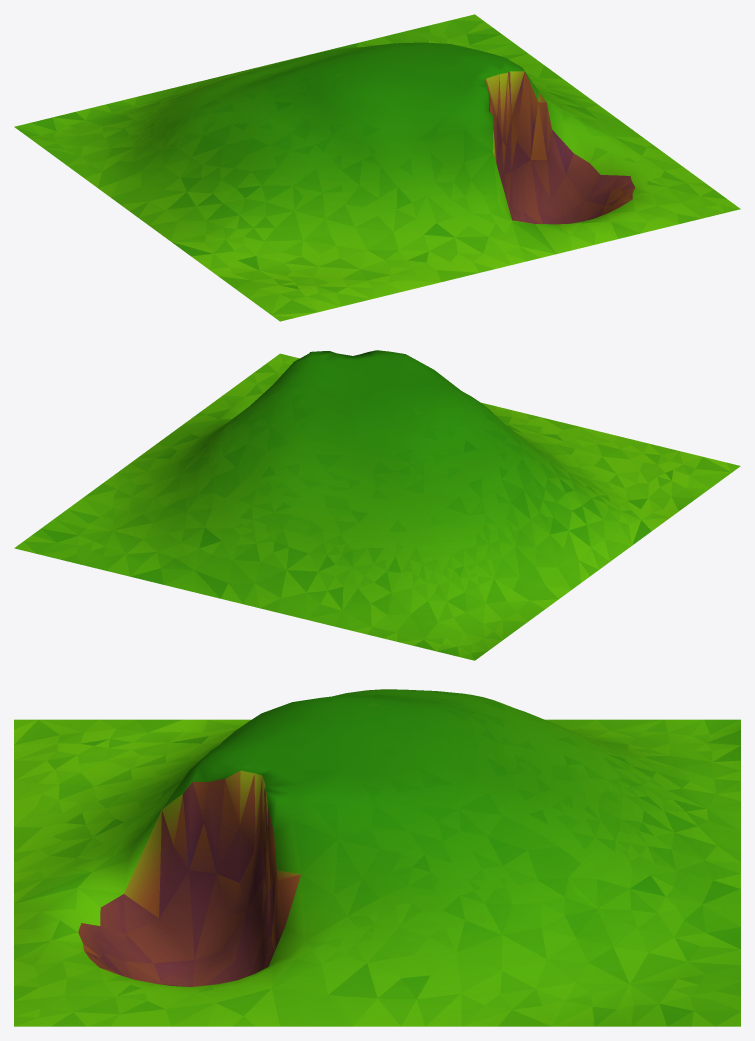
File: GL-Terrain-part-01.fbx
3 views of the same model, one above another, from view 1: azimuth 30°, elevation 25°; view 2: azimuth 150°, elevation 25°; view 3: azimuth 270°, elevation 25° (orthographic). The views are drawn at different scales.
Visible parts, largest first — view 1: GL-Terrain-part-01; view 2: GL-Terrain-part-01; view 3: GL-Terrain-part-01.
Boxes of the visible parts, x1=… form: GL-Terrain-part-01: x1=14, y1=14, x2=740, y2=321; GL-Terrain-part-01: x1=14, y1=350, x2=740, y2=660; GL-Terrain-part-01: x1=14, y1=689, x2=740, y2=1026.
Size of the model in its own units: 18 by 6.16 by 18.
